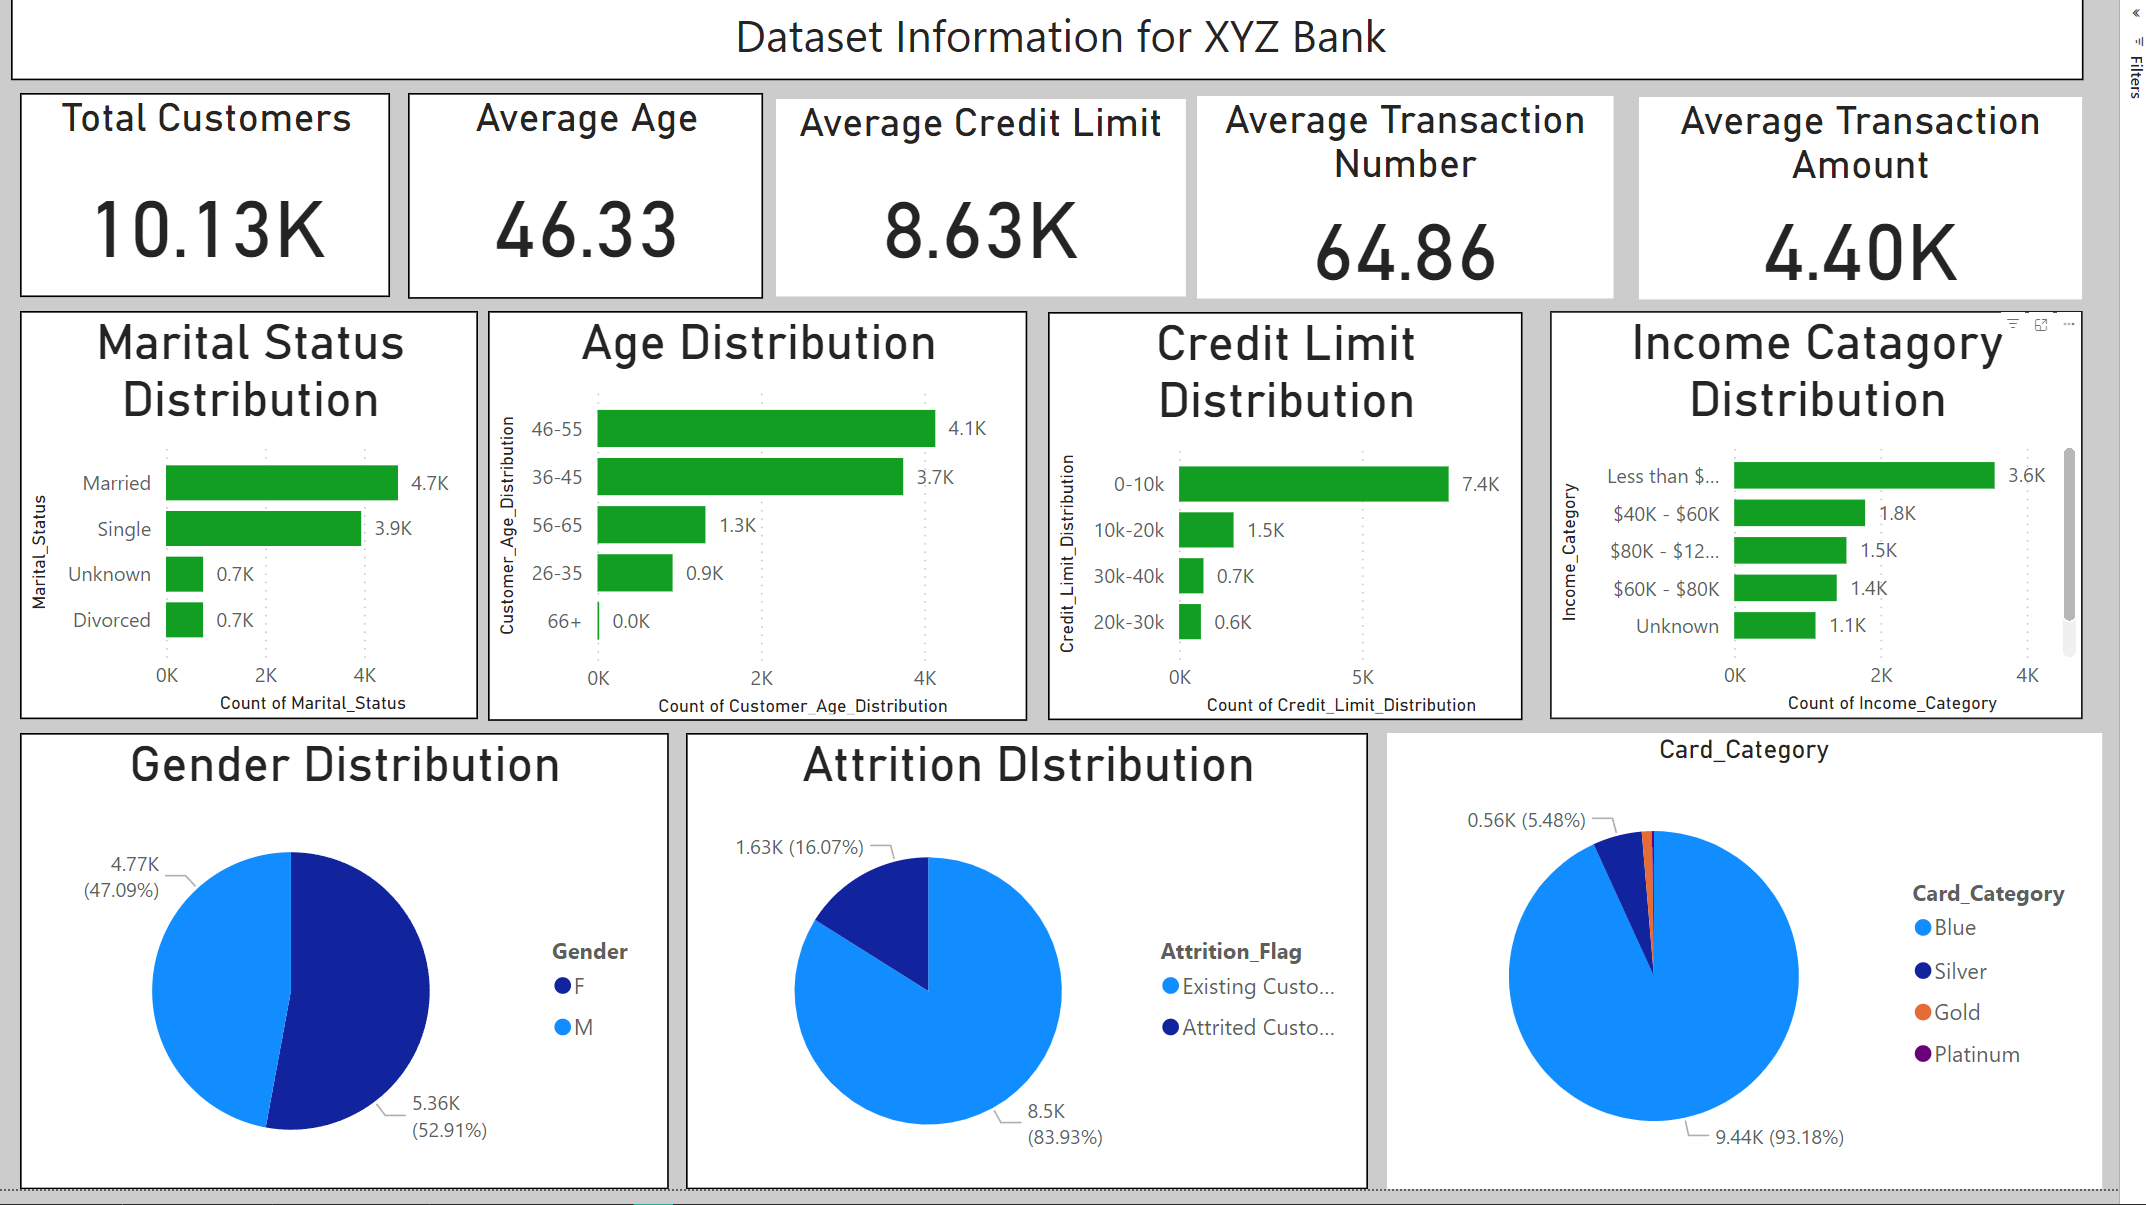

This screenshot's page, from the dashboard's own definition file:
{"tool":"powerbi","page":{"name":"Dataset Information","canvas":[1280,720],"ordinal":0},"visuals":[{"type":"card","title":"Total Customers","fields":{"Values":["CountNonNull(BankChurners.Total_Trans_Ct)"]},"box":[15,59.9,222.8,123.4],"z":0},{"type":"card","title":"Average Age","fields":{"Values":["Avg(BankChurners.Customer_Age)"]},"box":[248.6,59.7,213.9,123.8],"z":1000},{"type":"clusteredBarChart","title":"Marital Status Distribution","fields":{"Category":["BankChurners.Marital_Status"],"Y":["CountNonNull(BankChurners.Marital_Status)"]},"box":[15,191.1,276.1,245.6],"z":2000},{"type":"card","title":"Average Credit Limit","fields":{"Values":["Avg(BankChurners.Credit_Limit)"]},"box":[470.8,63.5,246.8,119.2],"z":3000},{"type":"clusteredBarChart","title":"Age Distribution","fields":{"Category":["BankChurners.Customer_Age_Distribution"],"Y":["CountNonNull(BankChurners.Customer_Age_Distribution)"]},"box":[297.1,191.1,324.7,247.4],"z":4000},{"type":"clusteredBarChart","title":"Credit Limit Distribution","fields":{"Category":["BankChurners.Credit_Limit_Distribution"],"Y":["CountNonNull(BankChurners.Credit_Limit_Distribution)"]},"box":[634.3,191.7,285.7,246.2],"z":5000},{"type":"clusteredBarChart","title":"Income Catagory Distribution","fields":{"Category":["BankChurners.Income_Category"],"Y":["CountNonNull(BankChurners.Income_Category)"]},"box":[936.8,191.1,321.1,245.6],"z":6000},{"type":"pieChart","title":"Gender Distribution","fields":{"Category":["BankChurners.Gender"],"Y":["CountNonNull(BankChurners.Gender)"]},"box":[15,445.1,390.5,274.9],"z":7000},{"type":"pieChart","title":"Attrition DIstribution","fields":{"Category":["BankChurners.Attrition_Flag"],"Y":["CountNonNull(BankChurners.Attrition_Flag)"]},"box":[416.3,445.1,410.9,274.9],"z":8000},{"type":"card","title":"Average Transaction Amount","fields":{"Values":["Avg(BankChurners.Total_Trans_Amt)"]},"box":[990.7,62.3,267.2,121.6],"z":9000},{"type":"card","title":"Average Transaction Number","fields":{"Values":["Avg(BankChurners.Total_Trans_Ct)"]},"box":[724.2,61.7,251,122.2],"z":10000},{"type":"pieChart","title":"Card_Category","fields":{"Category":["BankChurners.Card_Category"],"Y":["CountNonNull(BankChurners.Card_Category)"]},"box":[838.6,445.1,430.7,274.9],"z":11000},{"type":"textbox","box":[9.8,0,1248.6,52.3],"z":12000}]}

Visuals, with their boxes in screenshot pixels (x1, y1, x2, y2), scaled from the page's 1280x720 canvas onto the 2146x1205 screenshot:
"Total Customers" card: <bbox>25, 100, 399, 307</bbox>
"Average Age" card: <bbox>417, 100, 775, 307</bbox>
"Marital Status Distribution" clusteredBarChart: <bbox>25, 320, 488, 731</bbox>
"Average Credit Limit" card: <bbox>789, 106, 1203, 306</bbox>
"Age Distribution" clusteredBarChart: <bbox>498, 320, 1042, 734</bbox>
"Credit Limit Distribution" clusteredBarChart: <bbox>1063, 321, 1542, 733</bbox>
"Income Catagory Distribution" clusteredBarChart: <bbox>1571, 320, 2109, 731</bbox>
"Gender Distribution" pieChart: <bbox>25, 745, 680, 1204</bbox>
"Attrition DIstribution" pieChart: <bbox>698, 745, 1387, 1204</bbox>
"Average Transaction Amount" card: <bbox>1661, 104, 2109, 308</bbox>
"Average Transaction Number" card: <bbox>1214, 103, 1635, 308</bbox>
"Card_Category" pieChart: <bbox>1406, 745, 2128, 1204</bbox>
textbox: <bbox>16, 0, 2110, 88</bbox>
